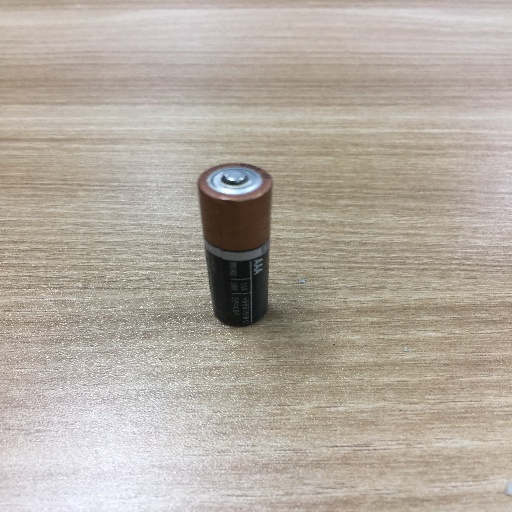Battery_0: (192, 156, 279, 340)
